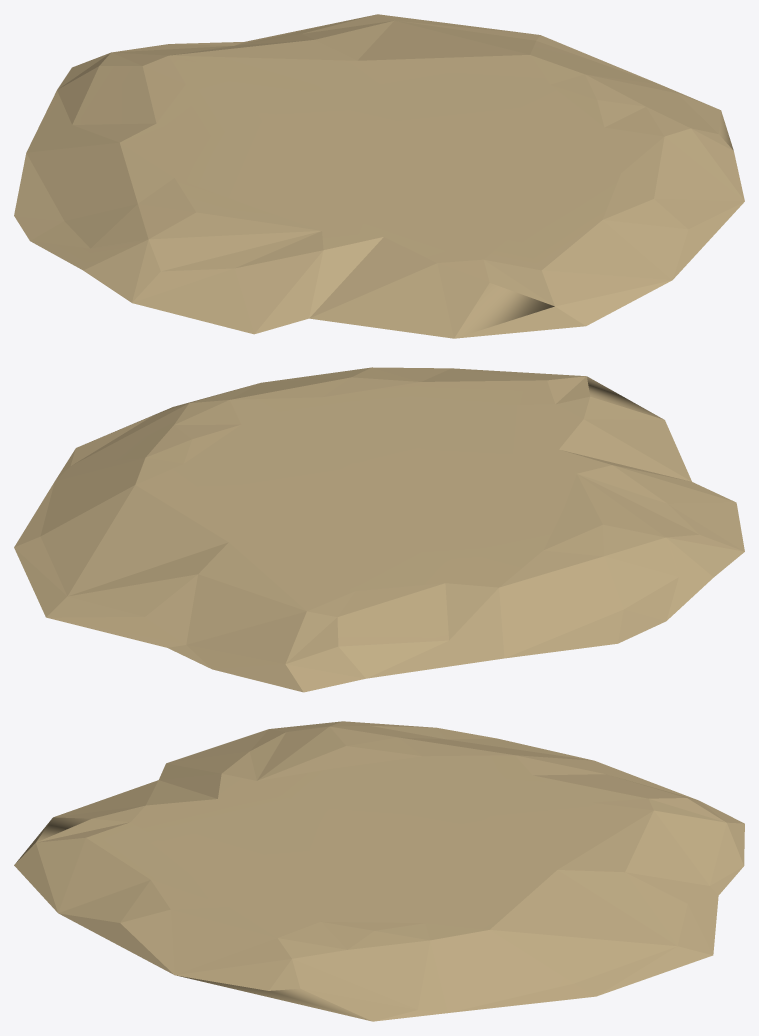
File: SOP_Island_Pirate.fbx
The picture shows the model from 3 angles, top to bottom: view 1: azimuth 30°, elevation 25°; view 2: azimuth 150°, elevation 25°; view 3: azimuth 270°, elevation 25°; orthographic projection. The views are drawn at different scales.
Visible parts, largest first — view 1: Island_01; view 2: Island_01; view 3: Island_01.
Boxes of the visible parts, bbox=[...] form: Island_01: bbox=[14, 14, 744, 338]; Island_01: bbox=[14, 367, 744, 692]; Island_01: bbox=[14, 721, 744, 1021].
Bounding box in the file's own units: 18.29 × 1.16 × 19.43.
